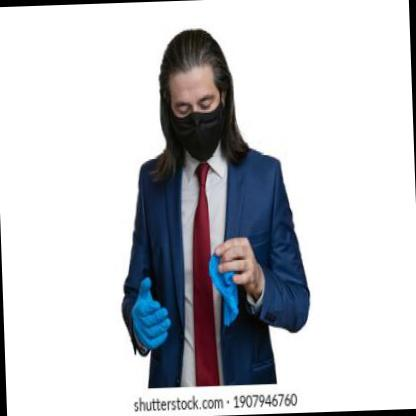Gloves: (128, 275, 172, 349)
